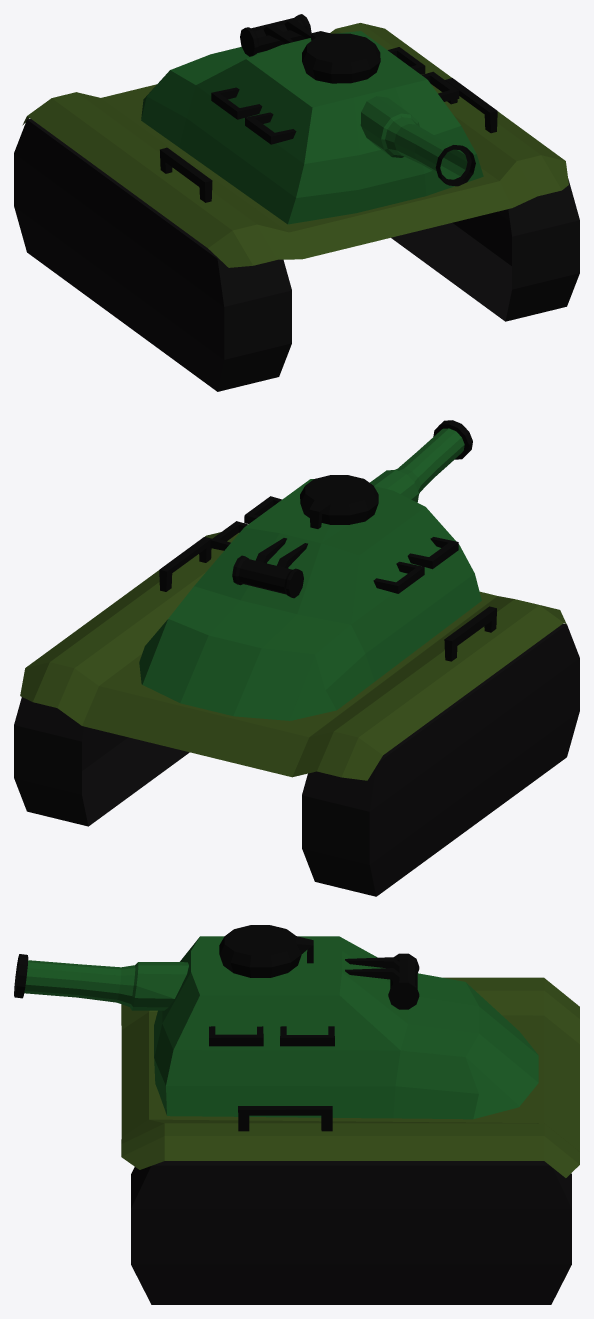
File: Enemy_02.fbx
The picture shows the model from 3 angles, top to bottom: view 1: azimuth 30°, elevation 25°; view 2: azimuth 150°, elevation 25°; view 3: azimuth 270°, elevation 25°; orthographic projection. The views are drawn at different scales.
Visible parts, largest first — view 1: Tank_Enemy_Basic.001; view 2: Tank_Enemy_Basic.001; view 3: Tank_Enemy_Basic.001.
Part boxes in pixels (x1,y1,x2,y2): Tank_Enemy_Basic.001: (14, 14, 579, 391); Tank_Enemy_Basic.001: (14, 420, 579, 896); Tank_Enemy_Basic.001: (14, 925, 579, 1304).
Bounding box in the file's own units: 892 × 626 × 1164.
